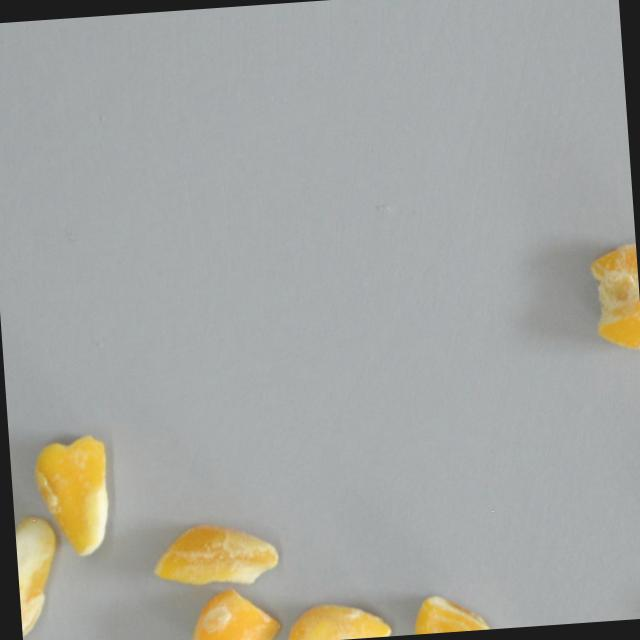pelicula: (27, 432, 111, 559), (147, 520, 278, 591), (13, 513, 63, 640), (584, 241, 640, 354), (180, 585, 279, 640), (276, 597, 391, 640), (408, 589, 508, 634)
